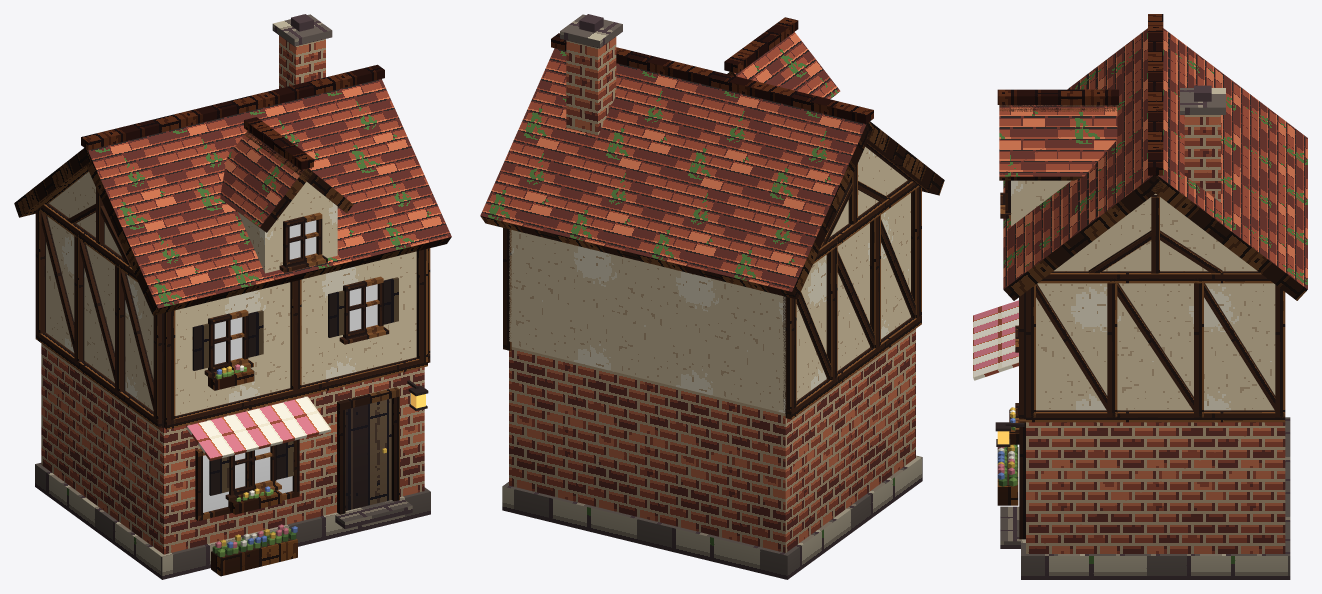
File: cottage_shop.glb
3 views of the same model, side by side, from view 1: azimuth 30°, elevation 25°; view 2: azimuth 150°, elevation 25°; view 3: azimuth 270°, elevation 25° (orthographic). The views are drawn at different scales.
Visible parts, largest first — view 1: cottage_shop; view 2: cottage_shop; view 3: cottage_shop.
Boxes of the visible parts, box(x1,y1,x2,y2) form: cottage_shop: box(14, 14, 451, 579); cottage_shop: box(480, 14, 944, 579); cottage_shop: box(973, 14, 1307, 579).
Size of the model in its own units: 6.14 by 8.77 by 5.67.
Materials: 9 (6 with a texture image).
